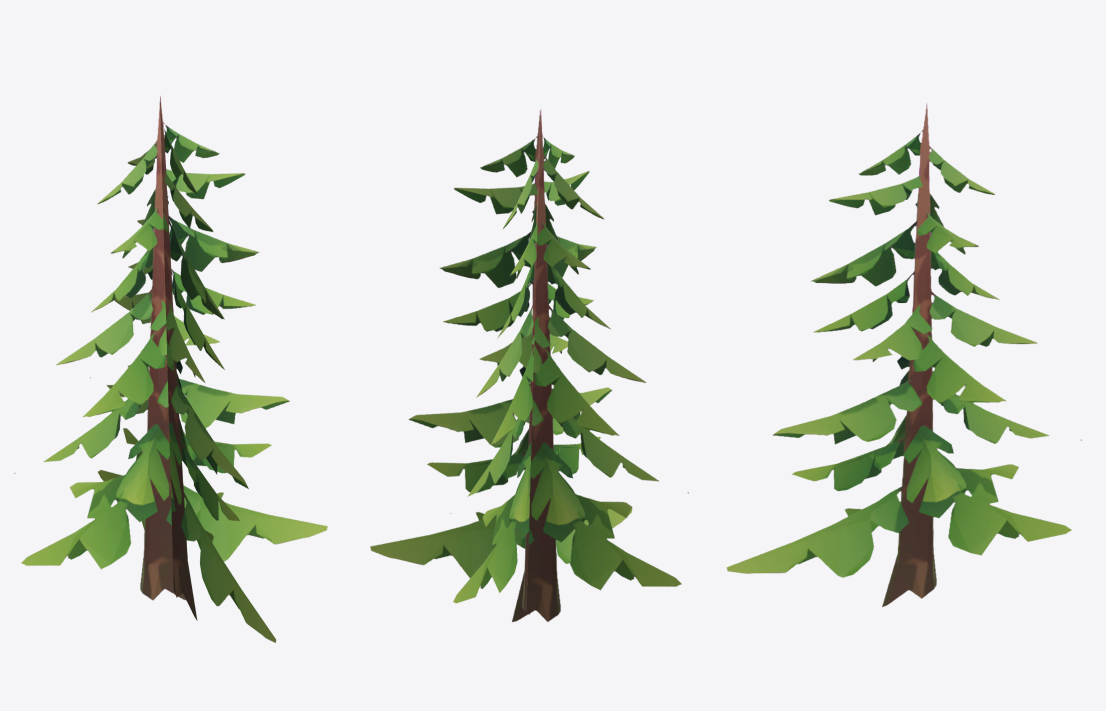
The picture shows the model from 3 angles, left to right: view 1: azimuth 30°, elevation 25°; view 2: azimuth 150°, elevation 25°; view 3: azimuth 270°, elevation 25°; orthographic projection. The views are drawn at different scales.
Parts seen in each view (by area): view 1: Conifer_Proxy; view 2: Conifer_Proxy; view 3: Conifer_Proxy.
Boxes of the visible parts, x1,y1,x2,y2 form: Conifer_Proxy: (14, 96, 327, 642); Conifer_Proxy: (370, 109, 688, 621); Conifer_Proxy: (726, 103, 1081, 606).
Size of the model in its own units: 9.27 by 15.1 by 9.64.
Materials: 1 (1 with a texture image).
